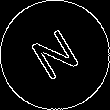N_SE: (25, 23, 85, 87)
